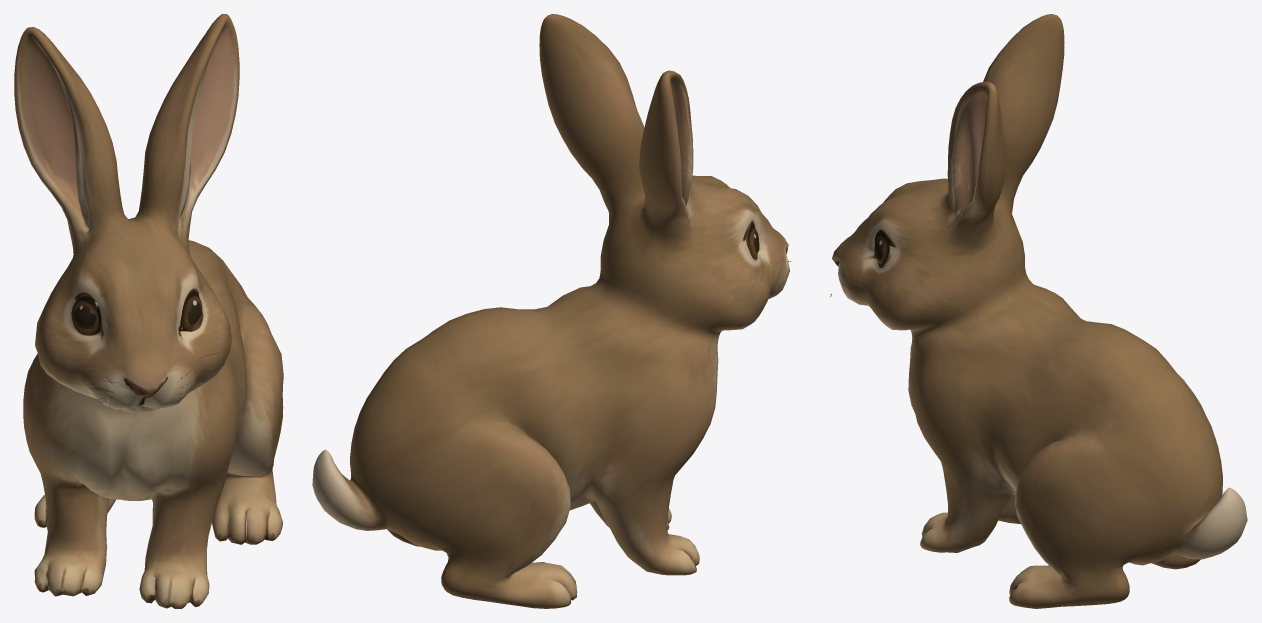
File: rabbit.glb
3 renders of one model, left to right at view 1: azimuth 30°, elevation 25°; view 2: azimuth 150°, elevation 25°; view 3: azimuth 270°, elevation 25°, orthographic. The views are drawn at different scales.
Parts seen in each view (by area): view 1: tripo_node_7f695936; view 2: tripo_node_7f695936; view 3: tripo_node_7f695936.
Boxes of the visible parts, bbox=[...] form: tripo_node_7f695936: bbox=[14, 14, 283, 608]; tripo_node_7f695936: bbox=[312, 14, 790, 608]; tripo_node_7f695936: bbox=[830, 14, 1247, 608].
Size of the model in its own units: 62.49 by 97.82 by 74.63.
Materials: 1 (1 with a texture image).
